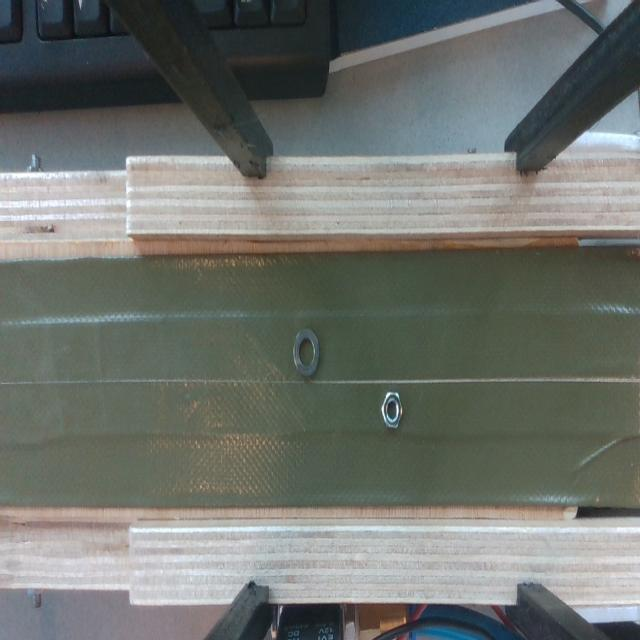Nut: (381, 393, 402, 428)
washer: (294, 328, 320, 376)
